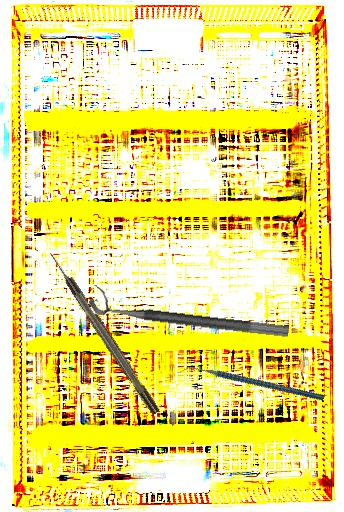Chopper: (176, 322, 326, 447)
Fixation Ring: (87, 284, 292, 339)
Hook Surgical: (46, 249, 161, 417)
